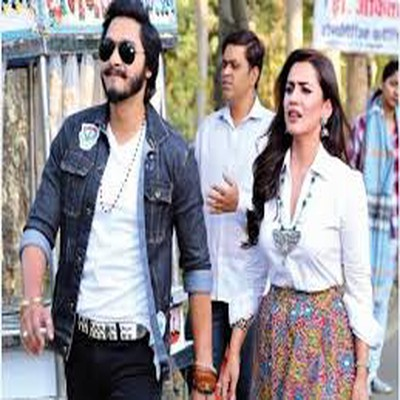eywear: (98, 46, 146, 84)
